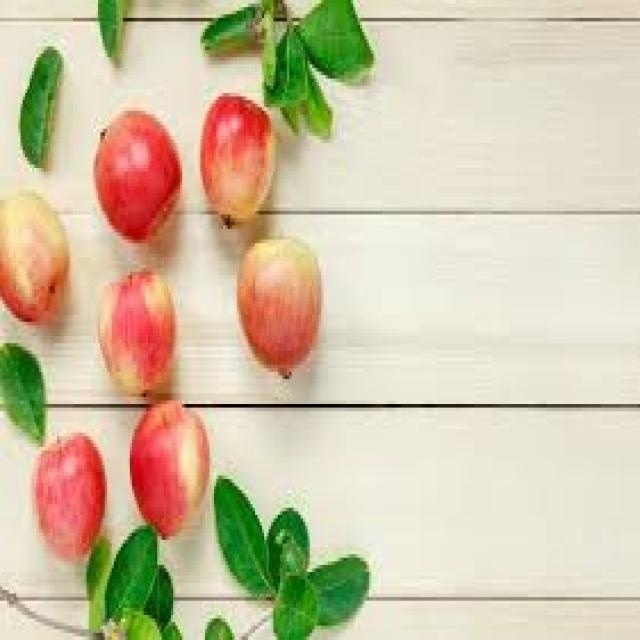agrume: (20, 394, 172, 582), (227, 173, 343, 392), (121, 364, 232, 536), (83, 83, 190, 257), (182, 56, 292, 225), (88, 254, 206, 404), (2, 179, 106, 331)
